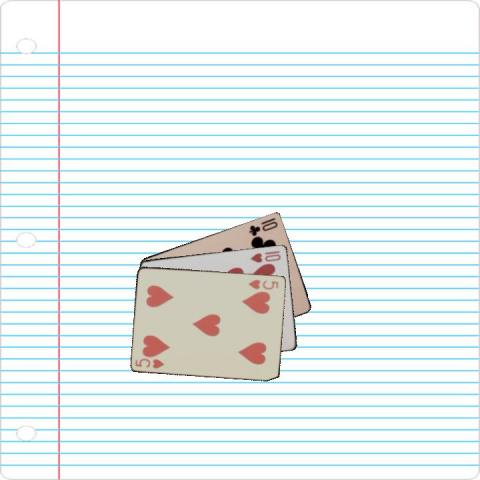10c: (246, 214, 279, 236)
10h: (248, 247, 282, 264)
5h: (245, 276, 280, 291), (132, 356, 166, 370)
